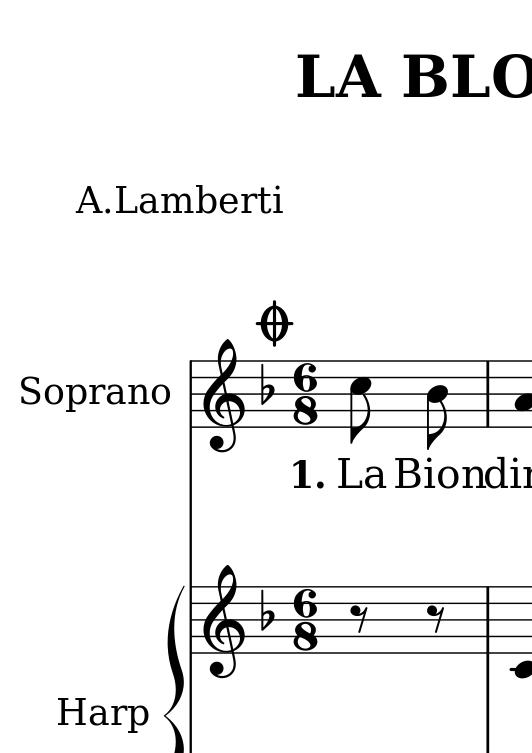6: (291, 587, 319, 620), (293, 359, 319, 393)
8: (291, 621, 321, 654), (292, 393, 319, 426)
8_4: (422, 359, 451, 447)
8_5: (348, 358, 373, 446)
Coda: (255, 301, 293, 346)
Flat: (258, 584, 277, 632), (257, 360, 276, 406)
Gclef: (201, 336, 245, 452), (202, 562, 245, 679)
Rests8: (424, 604, 450, 633), (346, 604, 368, 635)
Single_barline: (479, 585, 499, 652), (185, 585, 202, 653), (481, 360, 496, 428), (184, 359, 198, 427)
TimeSig: (293, 587, 320, 652), (293, 361, 318, 429)
